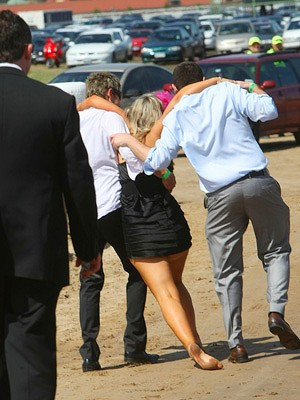Person: (1, 11, 80, 400), (165, 62, 280, 212), (120, 93, 183, 223), (78, 73, 127, 136)
